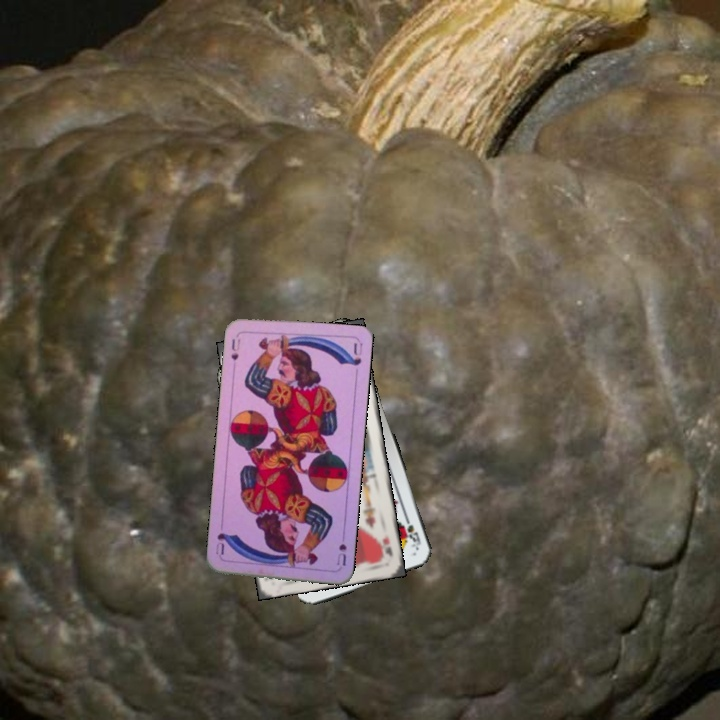HK: (378, 530, 395, 559)
SK: (400, 511, 424, 550)
SU: (333, 528, 349, 568), (227, 330, 243, 363)
